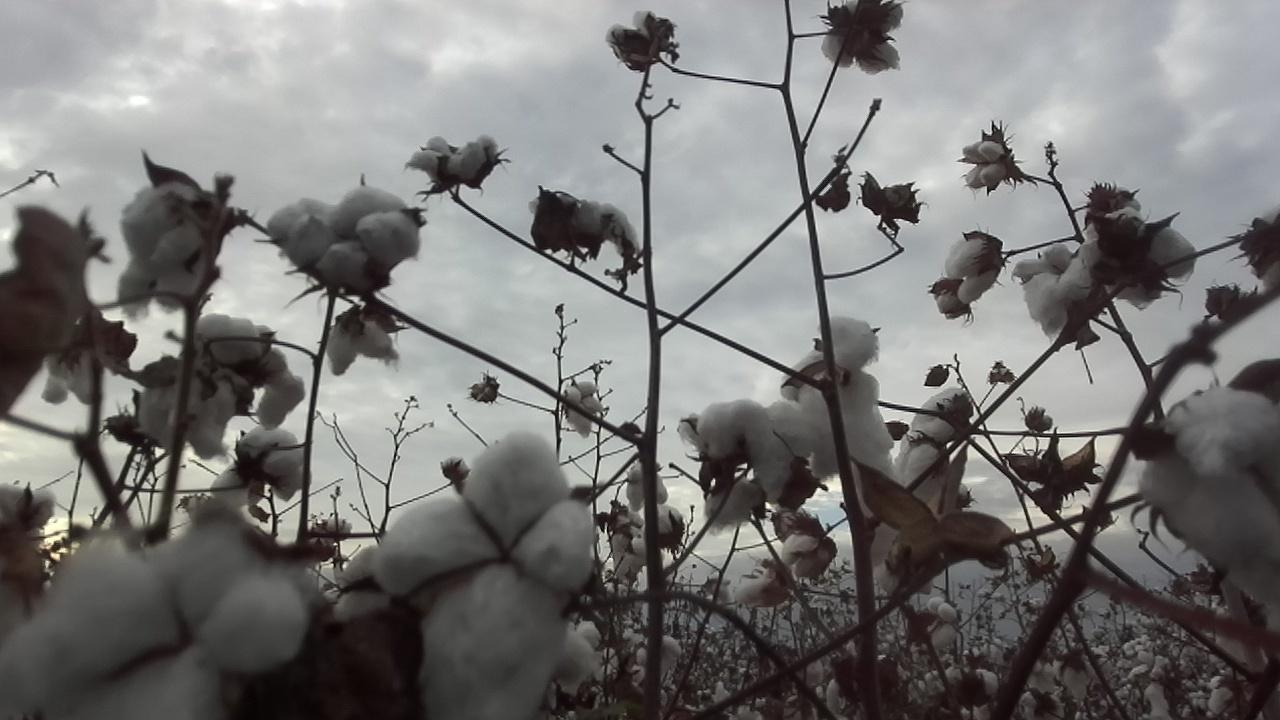cotton_ready: (379, 430, 599, 720), (0, 527, 309, 720), (1139, 387, 1280, 614), (780, 317, 894, 473), (265, 187, 420, 289), (189, 315, 307, 430), (697, 400, 821, 505), (116, 182, 212, 317), (858, 432, 947, 565), (1094, 221, 1200, 304), (135, 373, 237, 459), (208, 429, 307, 510), (1010, 240, 1094, 335), (529, 189, 637, 262), (822, 0, 904, 75), (324, 315, 404, 377), (331, 544, 387, 630), (404, 135, 500, 185), (548, 620, 602, 700), (945, 230, 1000, 305), (45, 330, 99, 404), (607, 10, 664, 70), (913, 387, 972, 438), (0, 485, 54, 537), (1084, 187, 1142, 235), (781, 530, 837, 578), (634, 502, 679, 554), (1252, 212, 1280, 294), (961, 140, 1005, 189), (735, 566, 788, 604)
